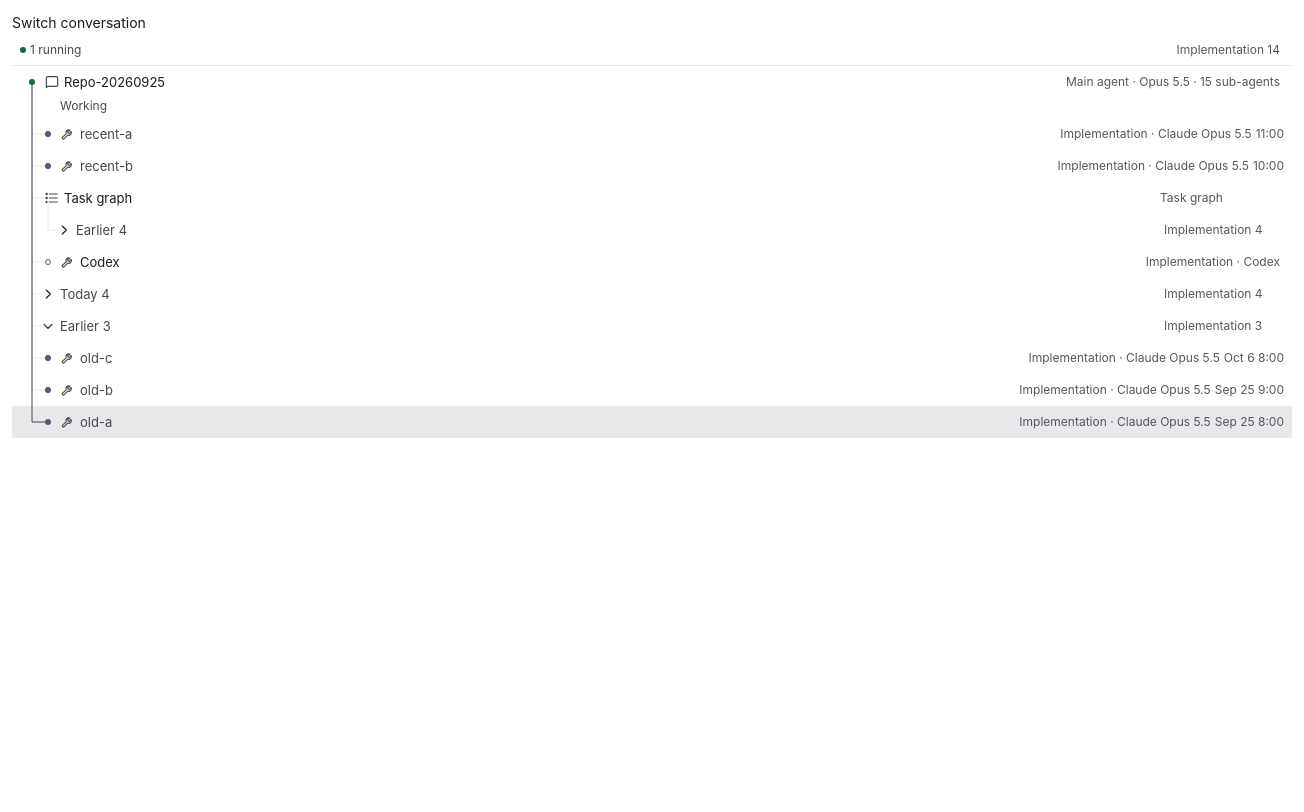
it: resets embedded task details when switching the root query without remounting
The image size is (1304, 812).
Click the list item "Earlier 4 Implementation 4": click(102, 230) [12,214,1292,246]
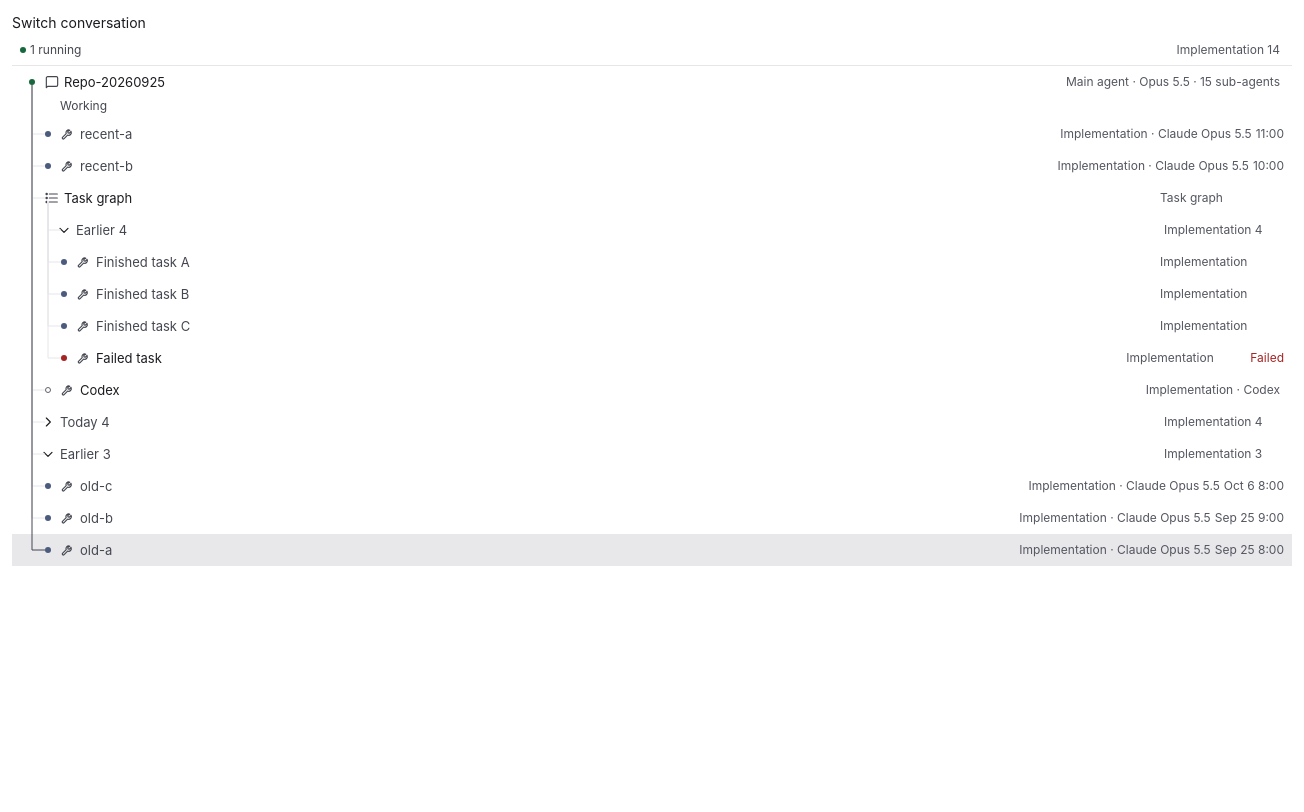
Click the list item "Finished task A Implementation": click(143, 262) [12,246,1292,278]
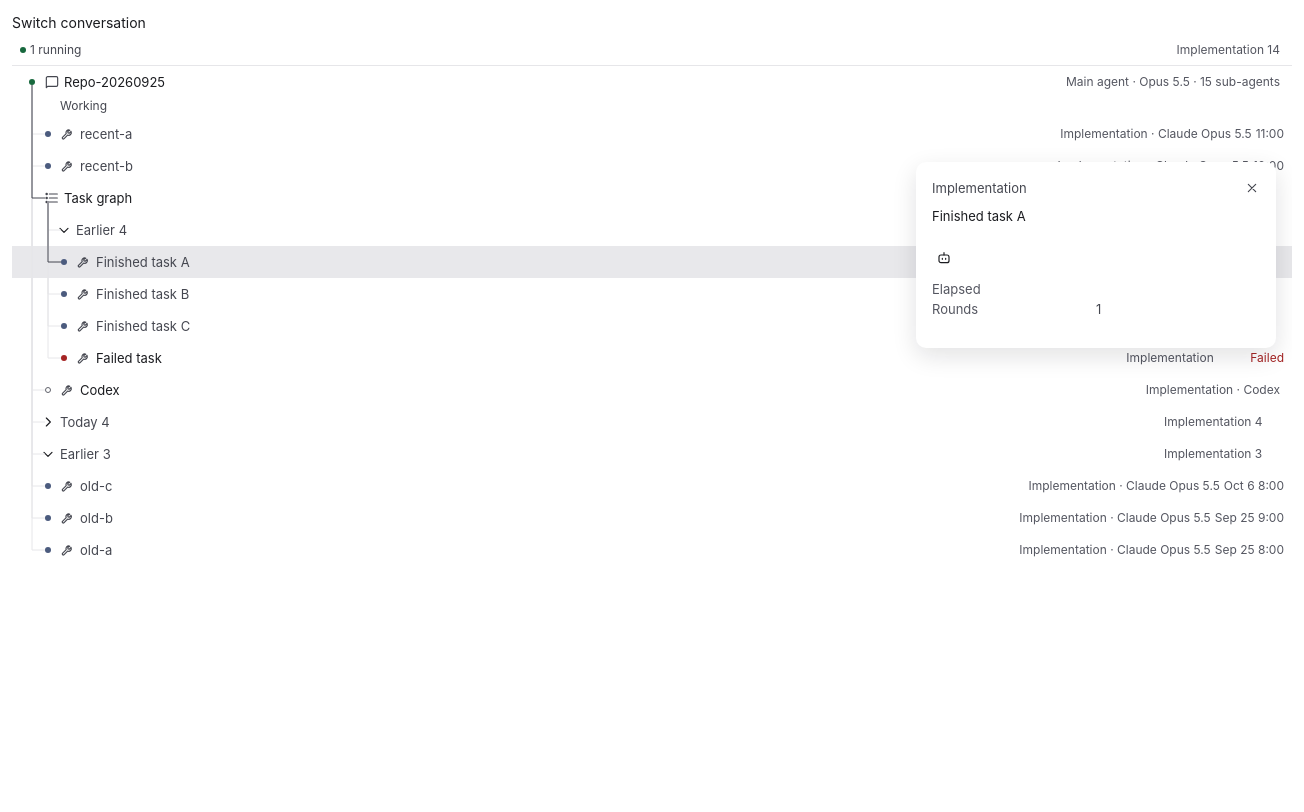
Expected: the element named "Request" shows "Finished task A", [932,208,1026,224]
Click the link "Switch conversation": click(79, 22) [12,14,146,31]
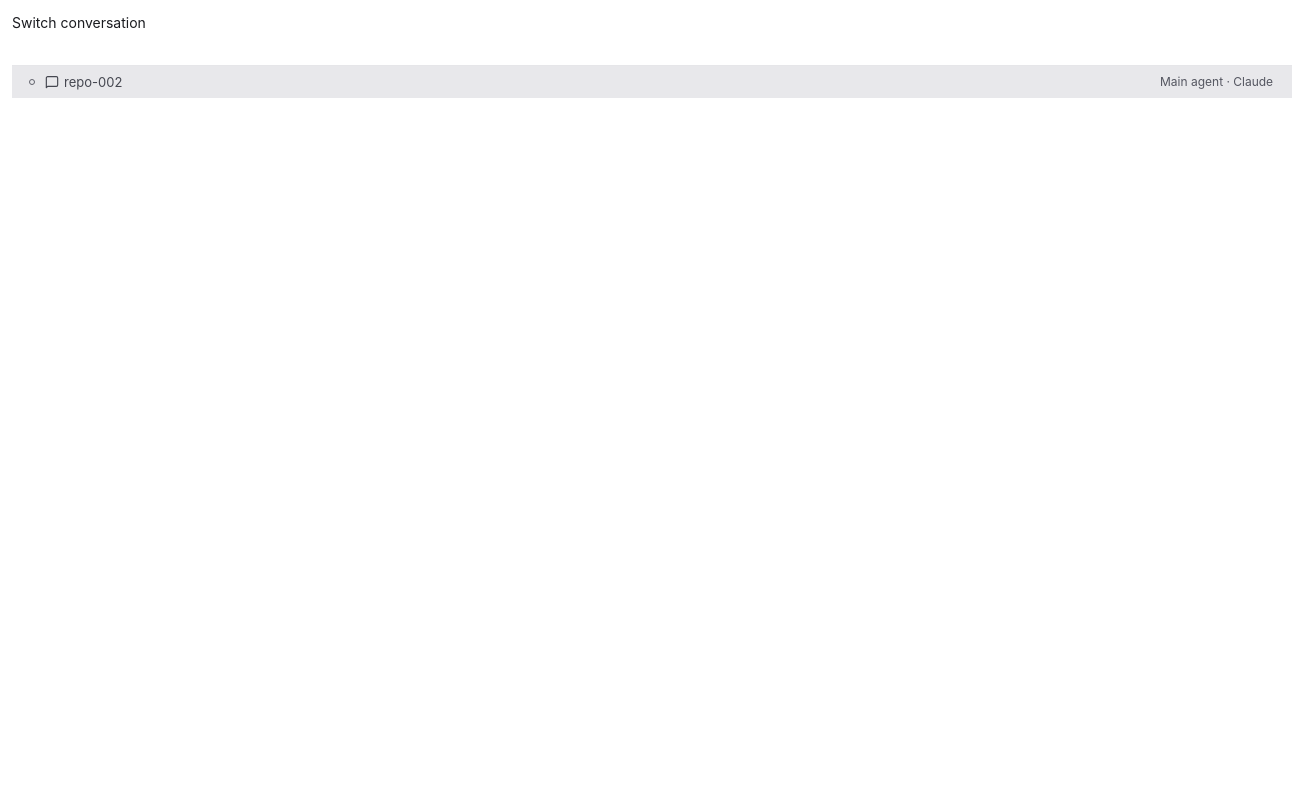
Expected: the element "Request" is gone
Expected: the number of list items is 1, [29,74,1273,90]
